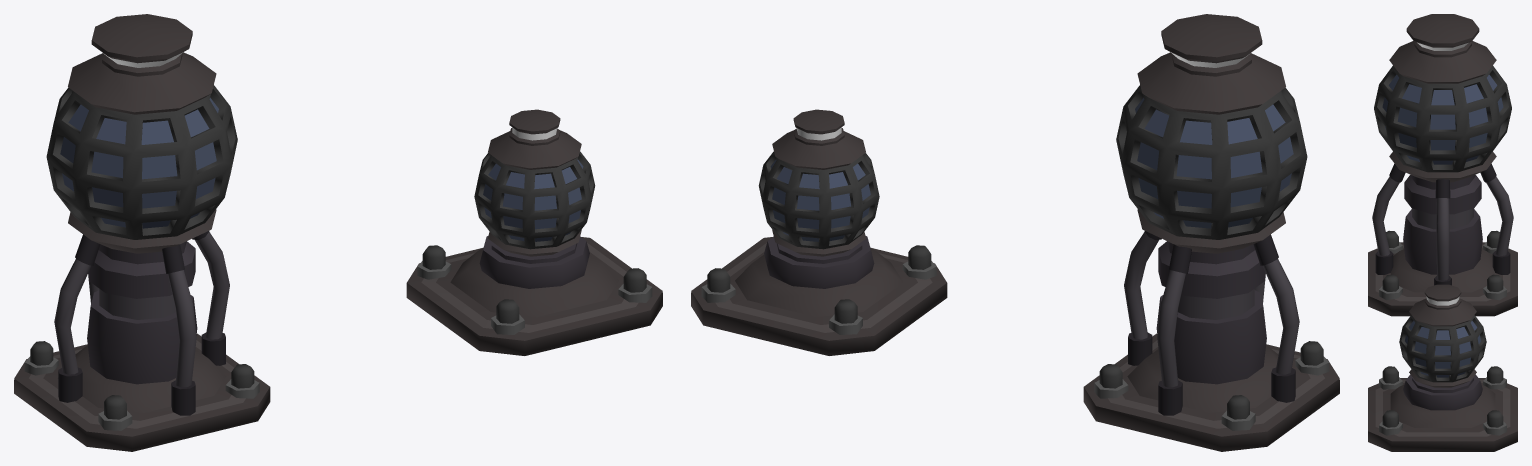
Rendered from SolarTrackingBeacon.fbx.
The picture shows the model from 3 angles, left to right: view 1: azimuth 30°, elevation 25°; view 2: azimuth 150°, elevation 25°; view 3: azimuth 270°, elevation 25°; orthographic projection. The views are drawn at different scales.
Visible parts, largest first — view 1: SolarTrackingBeaconLarge, SolarTrackingBeacon; view 2: SolarTrackingBeaconLarge, SolarTrackingBeacon; view 3: SolarTrackingBeaconLarge, SolarTrackingBeacon.
Part boxes in pixels (x1,y1,x2,y2): SolarTrackingBeaconLarge: (14, 14, 270, 451); SolarTrackingBeacon: (406, 109, 662, 355); SolarTrackingBeaconLarge: (1083, 14, 1339, 451); SolarTrackingBeacon: (691, 109, 947, 355); SolarTrackingBeaconLarge: (1368, 14, 1517, 316); SolarTrackingBeacon: (1368, 284, 1517, 451).
Size of the model in its own units: 2.94 by 1.81 by 0.935.
